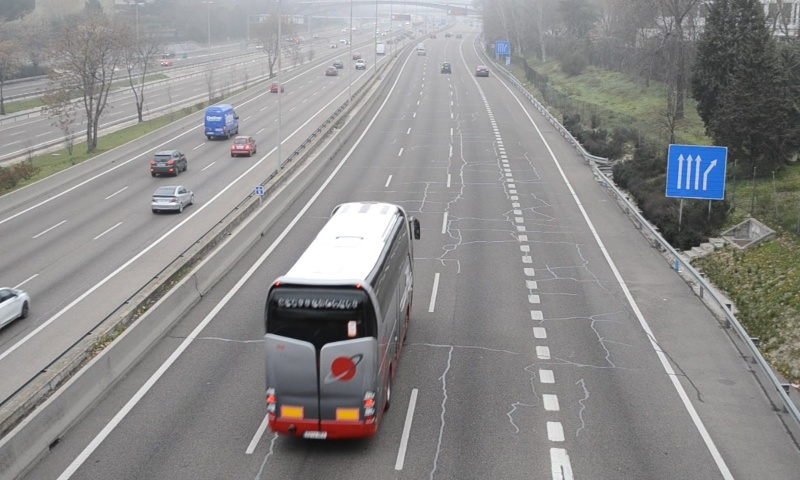bus: (262, 202, 412, 439)
car: (475, 65, 490, 78), (440, 61, 452, 75)
